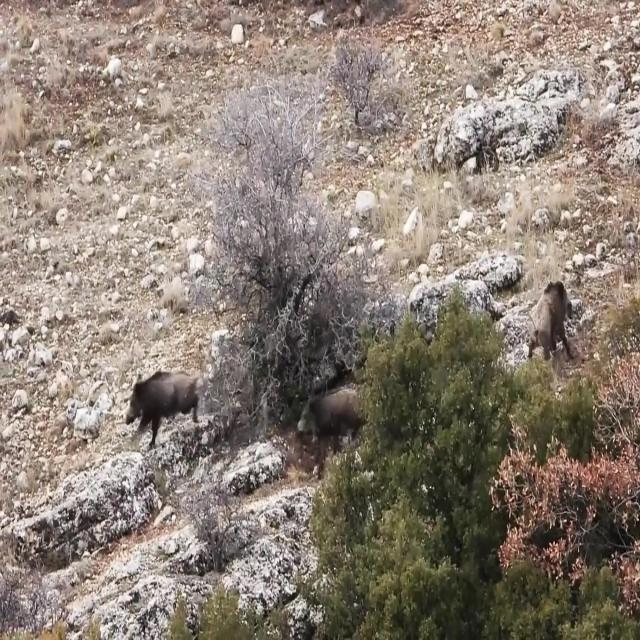pig: (115, 359, 203, 462), (516, 262, 581, 388), (292, 386, 360, 448)
